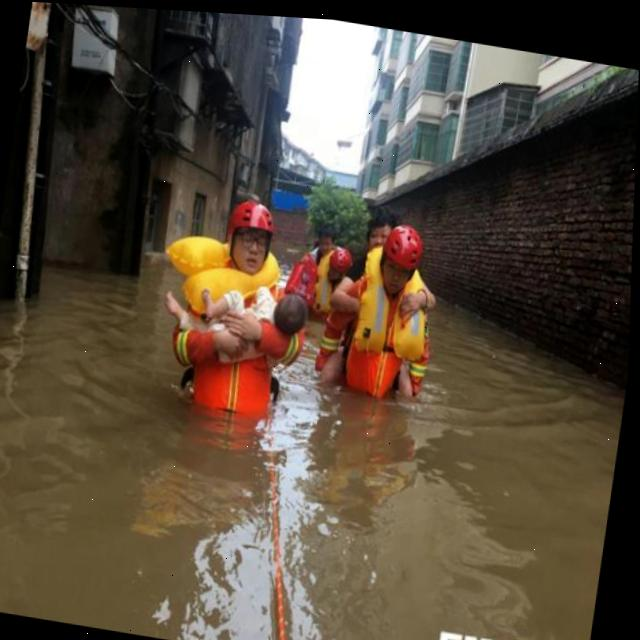civilian: (321, 197, 452, 409), (142, 258, 329, 378), (294, 213, 348, 275)
rescuer: (150, 176, 328, 451), (307, 207, 463, 420), (291, 224, 361, 332)
